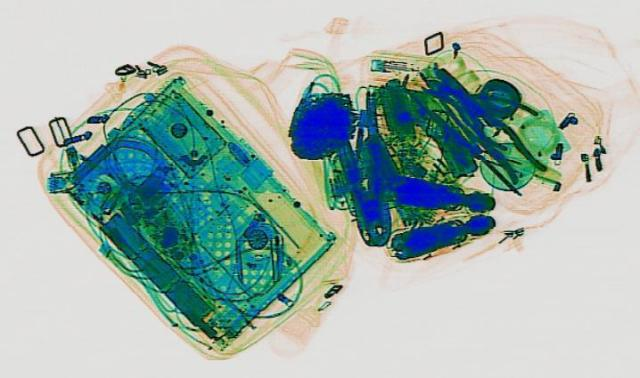Pliers: (421, 63, 552, 182), (398, 66, 554, 149), (326, 107, 399, 245)
